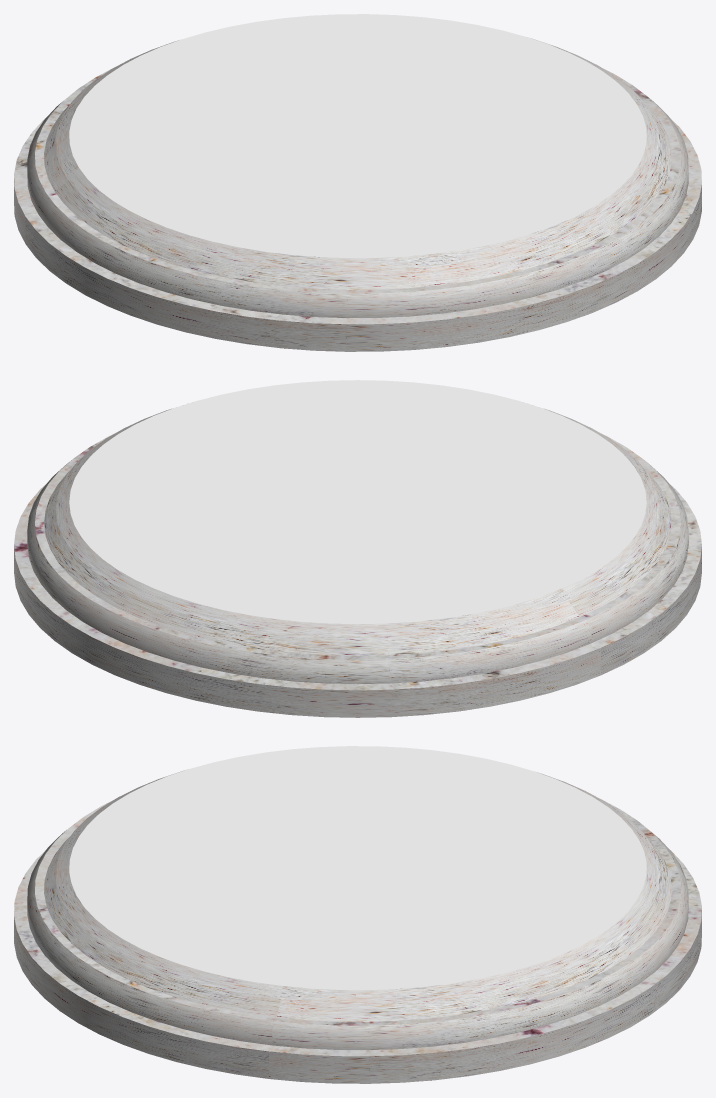
The model's file is Clock.glb.
The picture shows the model from 3 angles, top to bottom: view 1: azimuth 30°, elevation 25°; view 2: azimuth 150°, elevation 25°; view 3: azimuth 270°, elevation 25°; orthographic projection.
Visible parts, largest first — view 1: Clock; view 2: Clock; view 3: Clock.
Part boxes in pixels (x1,y1,x2,y2): Clock: (14, 14, 701, 351); Clock: (14, 380, 701, 717); Clock: (14, 746, 701, 1083).
Size of the model in its own units: 2 by 0.2256 by 2.
Materials: 4 (2 with a texture image).
